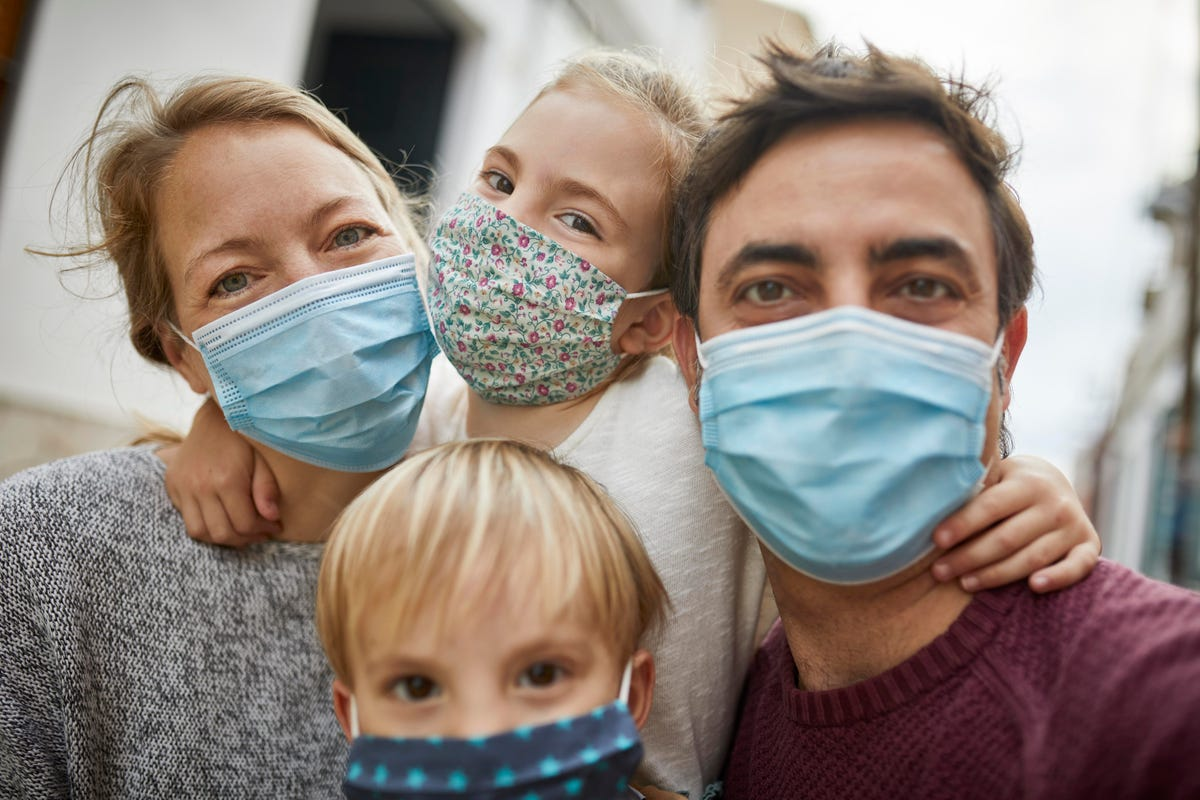with_mask: (707, 222, 995, 487), (190, 205, 420, 435), (355, 622, 611, 798), (481, 155, 603, 378)
